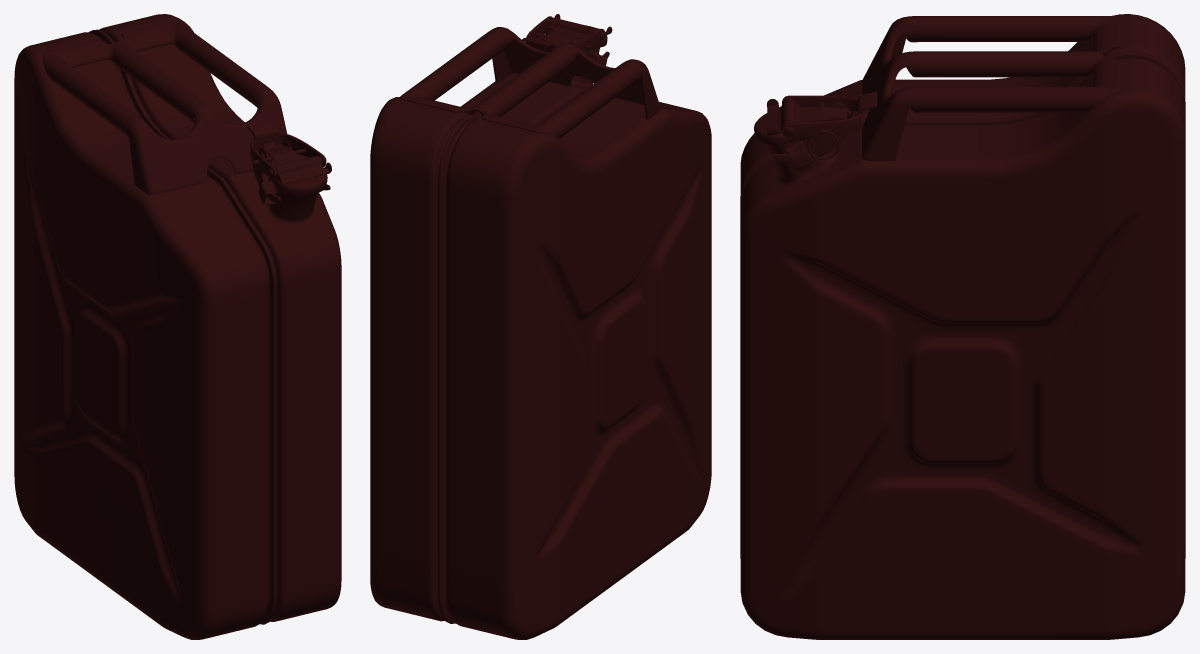
File: jerry_can_01.FBX
The picture shows the model from 3 angles, left to right: view 1: azimuth 30°, elevation 25°; view 2: azimuth 150°, elevation 25°; view 3: azimuth 270°, elevation 25°; orthographic projection. The views are drawn at different scales.
Parts seen in each view (by area): view 1: jerry_can_01_001; view 2: jerry_can_01_001; view 3: jerry_can_01_001.
Part boxes in pixels (box(x1,y1,x2,y2)): jerry_can_01_001: box(14, 14, 341, 639); jerry_can_01_001: box(370, 14, 711, 639); jerry_can_01_001: box(740, 14, 1185, 639).
Size of the model in its own units: 16.5 by 34.53 by 46.83.
